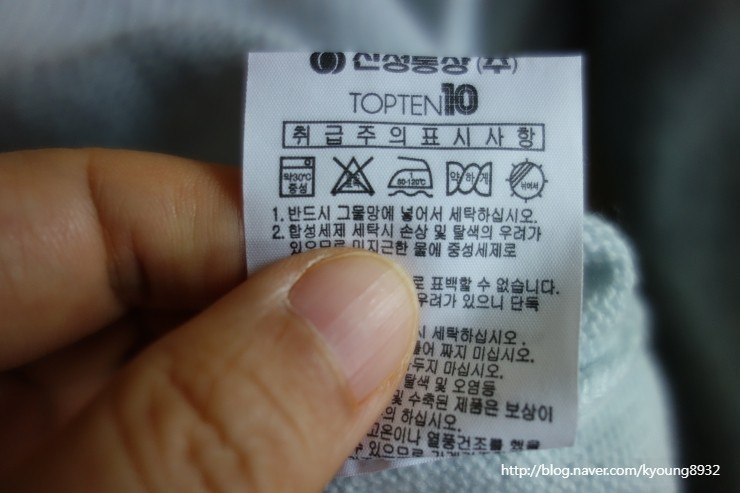KR_flat_dry_in_shade: (504, 158, 549, 204)
KR_gentle_wring: (443, 156, 496, 200)
KR_iron_low_temp_with_cloth: (384, 151, 436, 200)
KR_no_chlorine_bleach: (328, 154, 378, 200)
KR_wash_warm_30_neutral: (274, 152, 321, 202)
